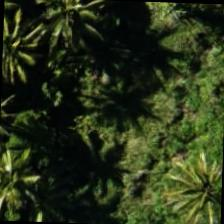Kelapa_Sawit: (14, 0, 107, 65), (0, 136, 57, 223), (159, 150, 224, 223)
